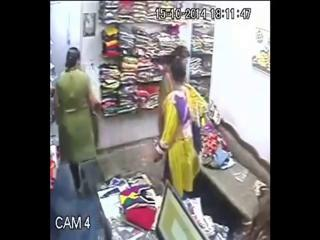Normal: (54, 46, 106, 194), (156, 54, 202, 200)
